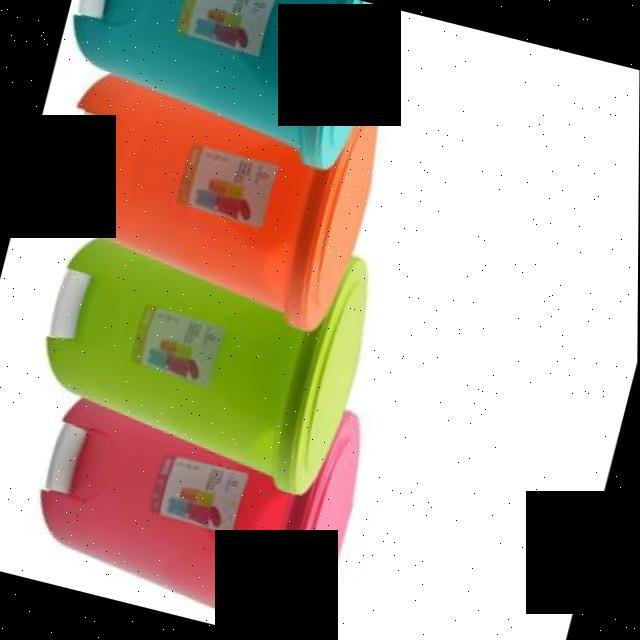bin: (5, 177, 383, 509), (9, 55, 395, 344), (15, 387, 365, 640), (45, 0, 392, 172)
